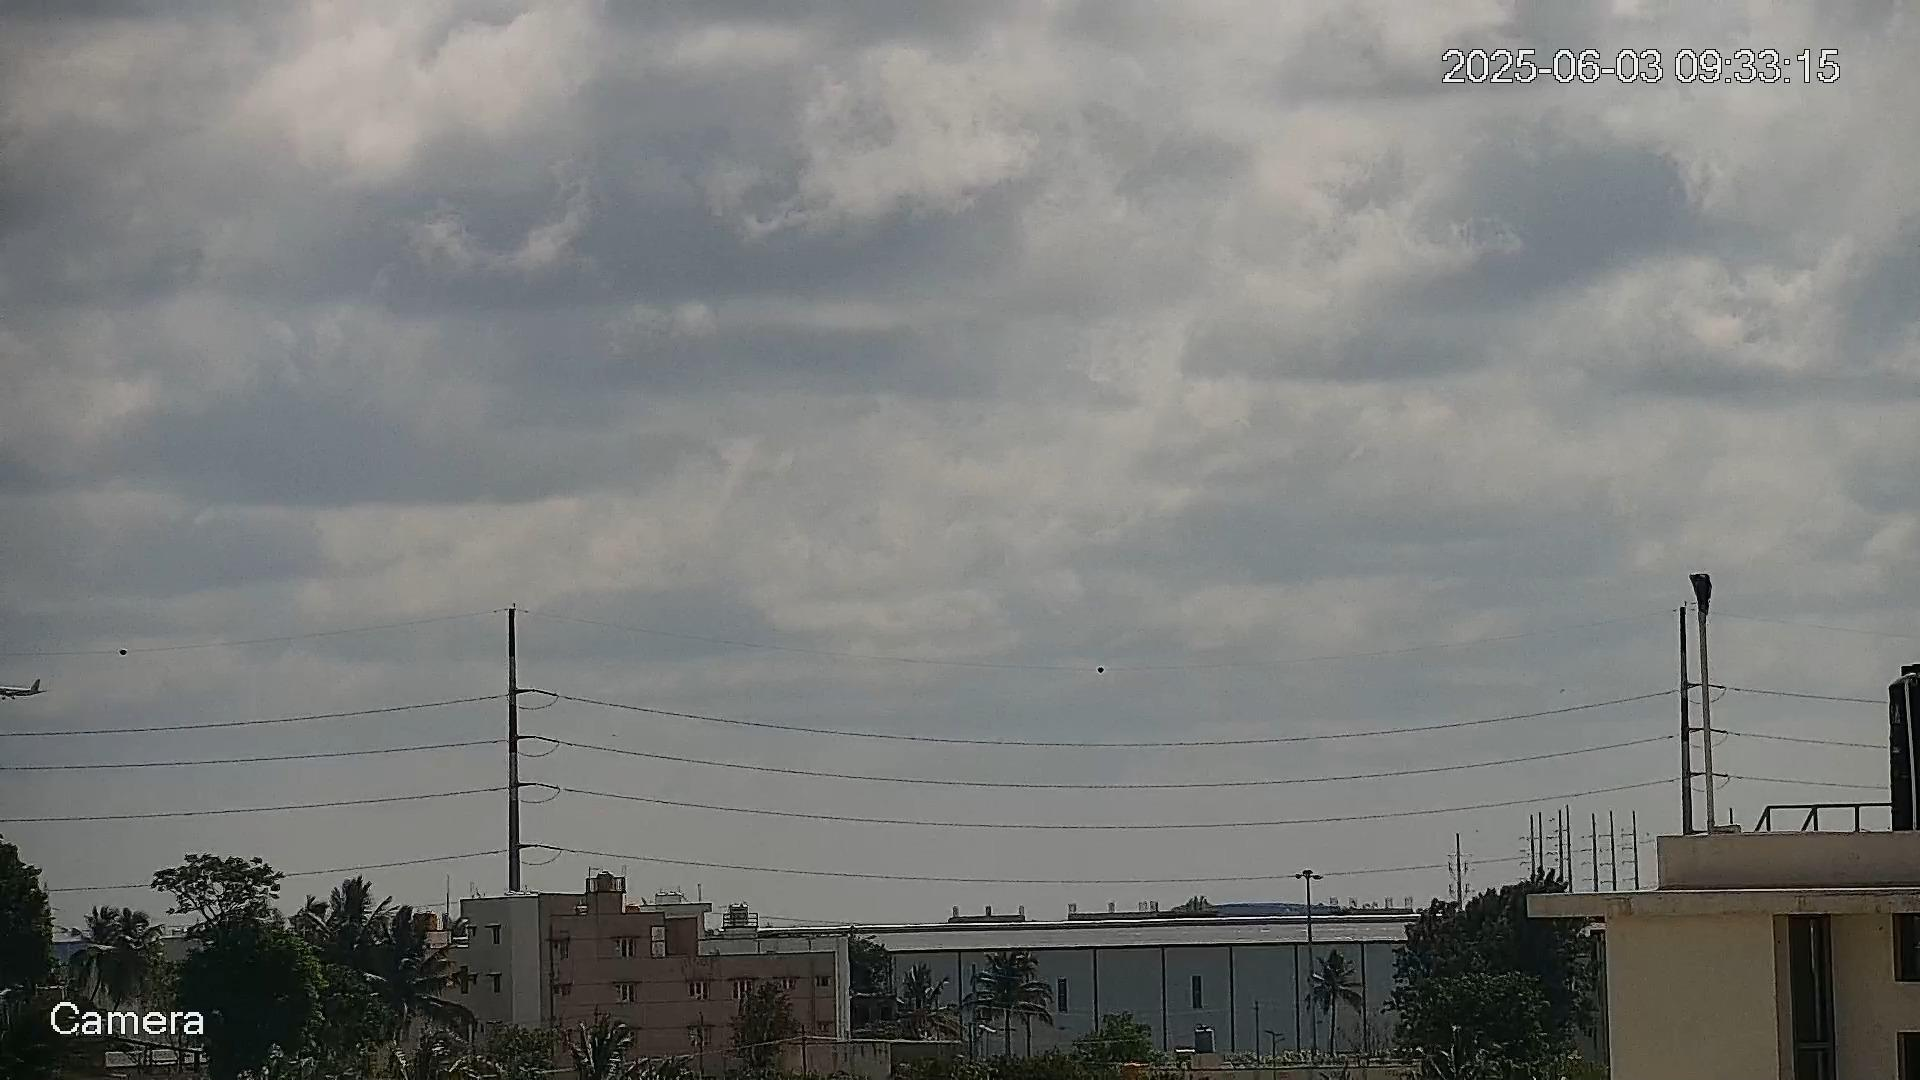Aircraft: (0, 678, 46, 700)
